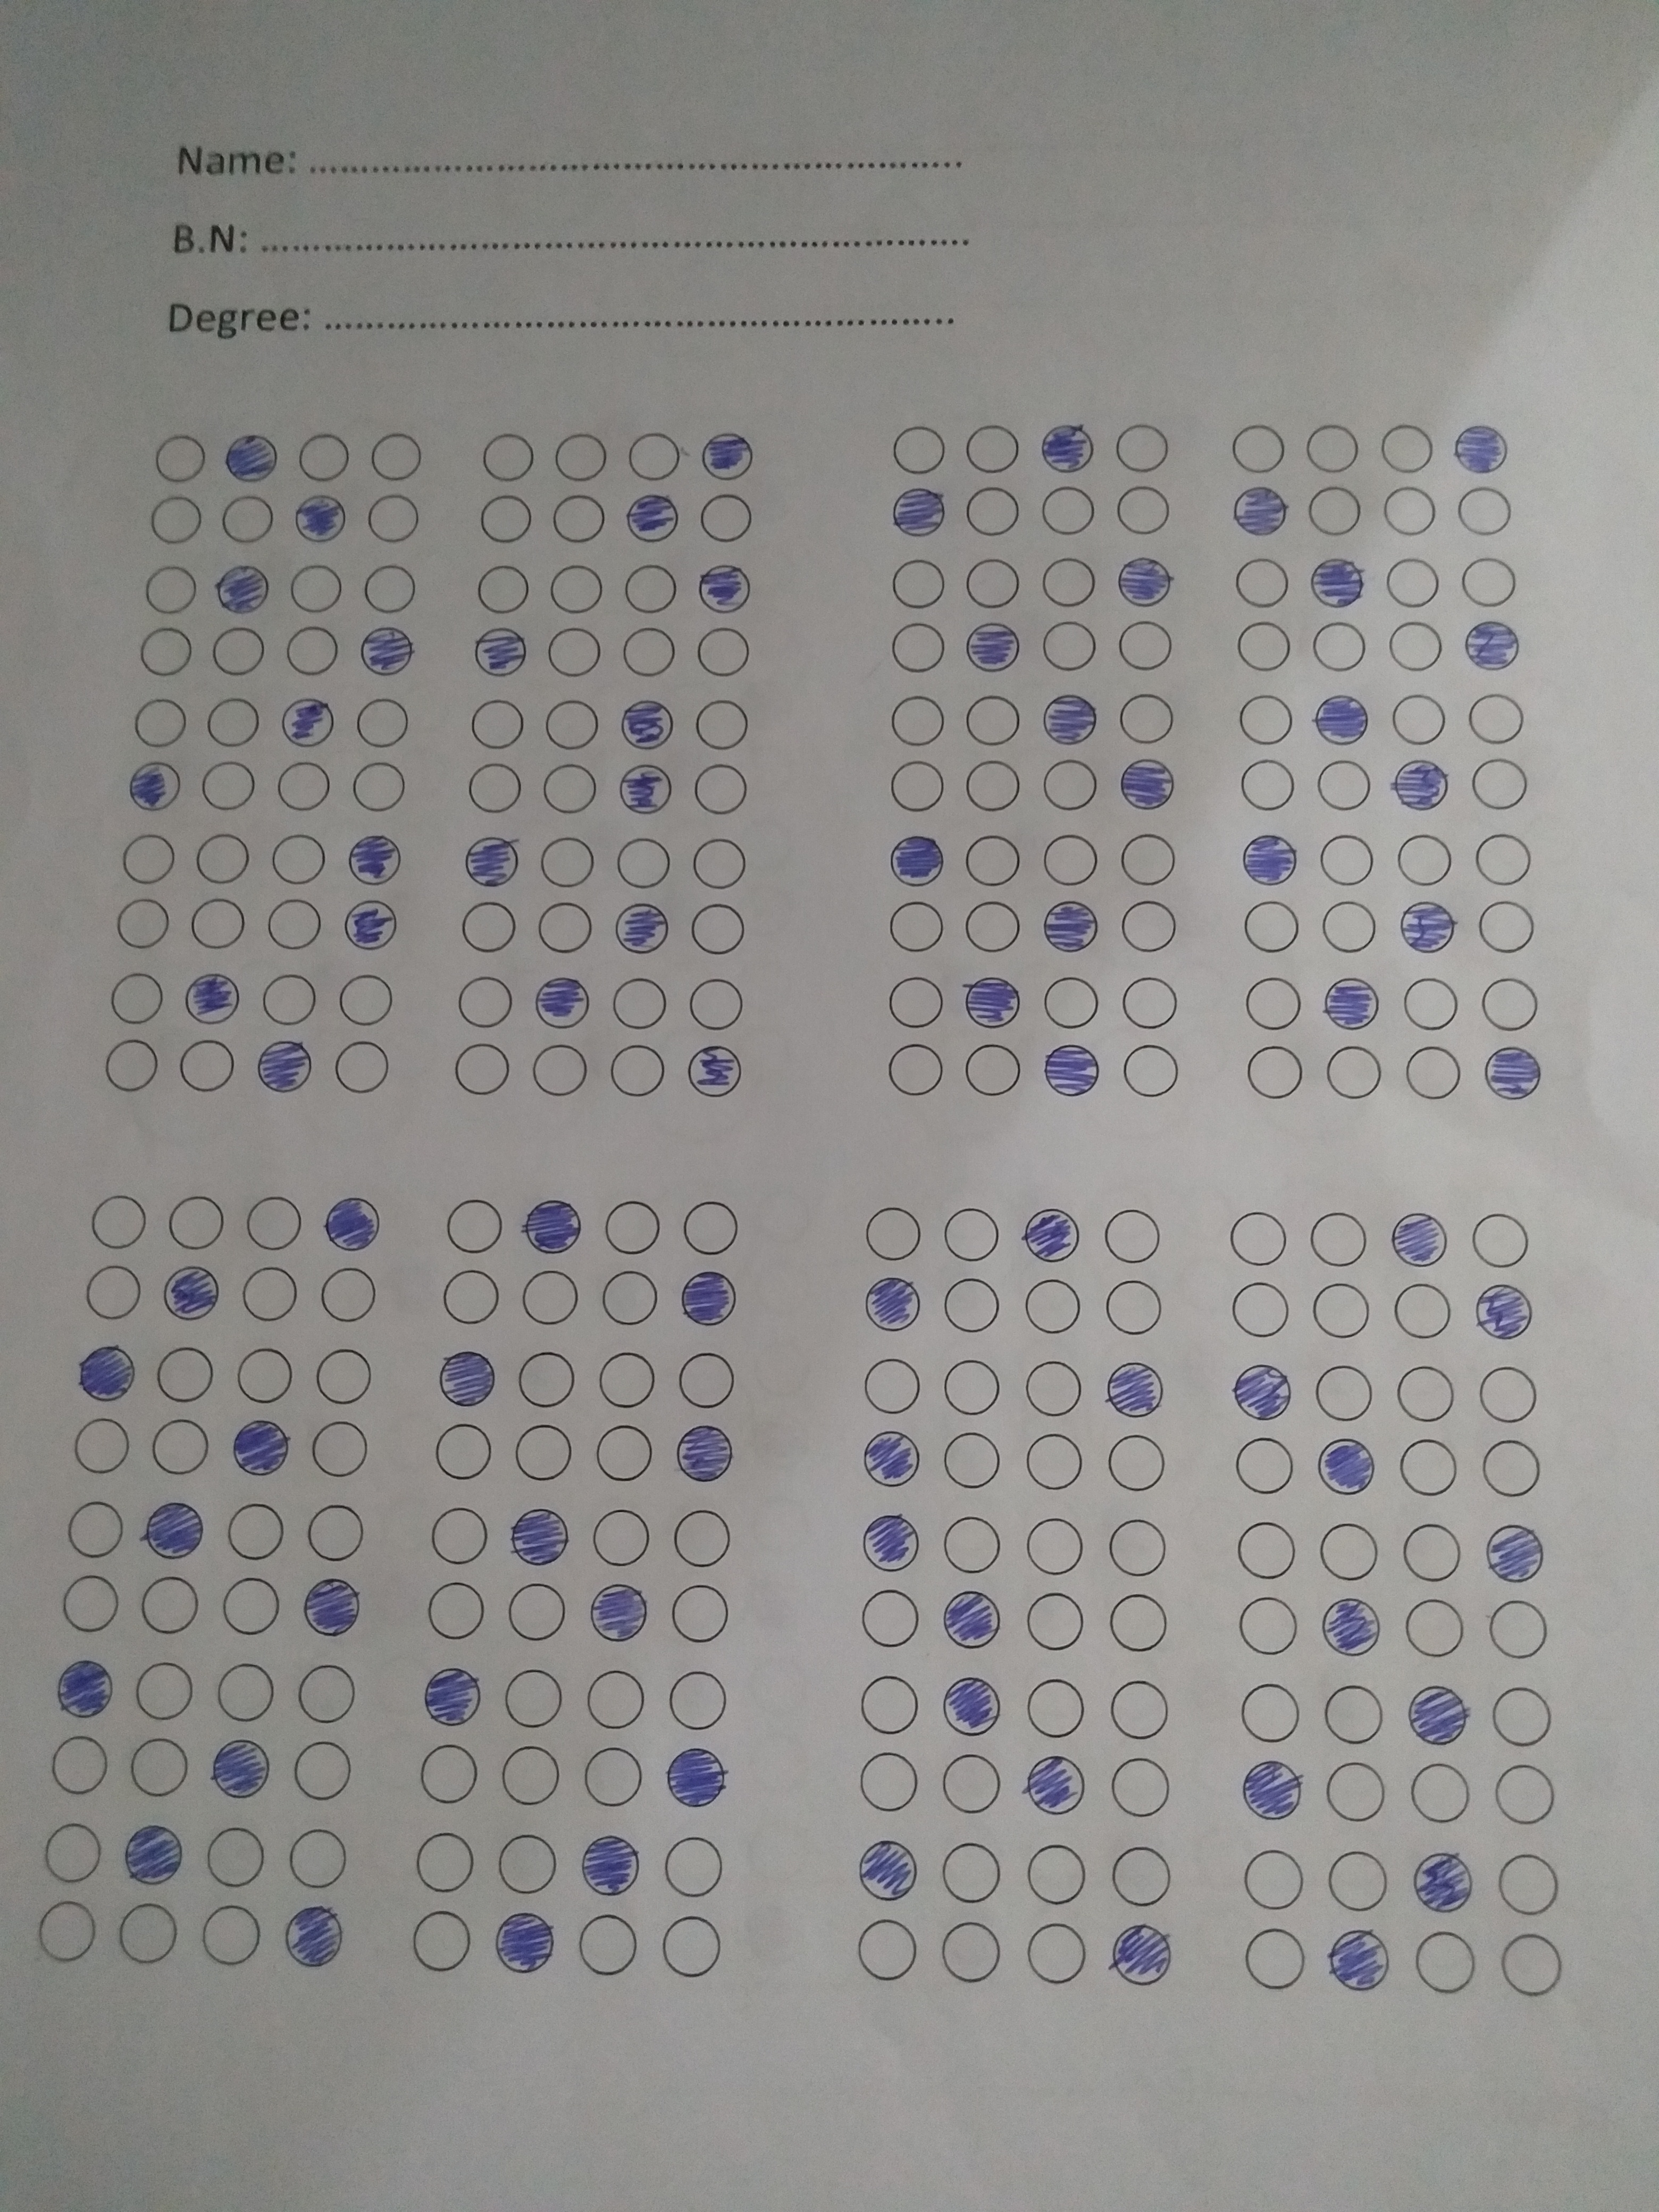not-c: (1016, 1838, 1100, 1909), (852, 1672, 931, 1742), (1023, 1921, 1101, 1991), (591, 1343, 662, 1418), (653, 1912, 727, 1984), (511, 1343, 580, 1418), (1229, 1433, 1305, 1501), (573, 1911, 645, 1982), (854, 1914, 925, 1986), (200, 1824, 274, 1893), (934, 1918, 1007, 1987), (572, 1665, 648, 1731), (1016, 1514, 1087, 1583), (1310, 1517, 1380, 1588), (218, 1500, 293, 1566), (854, 1747, 929, 1813), (1103, 1756, 1178, 1822), (1241, 1926, 1316, 1993), (936, 1430, 1012, 1494), (1096, 1512, 1166, 1581), (1412, 1930, 1481, 2000), (1398, 1519, 1466, 1590), (1485, 1684, 1556, 1752), (1319, 1761, 1396, 1824), (423, 1420, 493, 1487), (216, 1573, 286, 1641), (505, 1581, 575, 1649), (1474, 1360, 1542, 1430), (1476, 1437, 1546, 1505), (1493, 1851, 1563, 1919), (420, 1580, 491, 1646), (35, 1897, 101, 1968), (408, 1907, 474, 1979), (1236, 1592, 1307, 1658), (1108, 1841, 1175, 1912), (1321, 1850, 1392, 1916), (42, 1818, 106, 1892), (286, 1824, 354, 1892), (199, 1902, 267, 1970), (1480, 1595, 1547, 1663), (495, 1832, 561, 1902), (115, 1900, 181, 1970), (676, 1197, 748, 1261), (132, 1656, 197, 1728), (150, 1343, 223, 1406), (288, 1742, 361, 1804), (934, 1514, 1007, 1576), (1018, 1592, 1091, 1655), (450, 897, 526, 956), (1389, 1437, 1467, 1494), (533, 895, 601, 961), (664, 1669, 732, 1735), (660, 1836, 728, 1902), (1021, 1676, 1089, 1742), (1107, 1677, 1175, 1743), (84, 1190, 153, 1254), (214, 1656, 279, 1726), (415, 1740, 484, 1804), (1237, 1681, 1307, 1745), (1500, 1930, 1565, 2000), (502, 1743, 565, 1815), (936, 1357, 1007, 1420), (1021, 1430, 1093, 1493), (1398, 1599, 1469, 1662), (162, 1188, 228, 1254), (598, 1195, 664, 1261), (1493, 1763, 1560, 1829), (1241, 1848, 1307, 1914), (606, 1040, 671, 1108), (666, 1583, 734, 1648), (293, 1663, 361, 1728), (1019, 1355, 1087, 1420), (857, 1588, 922, 1656), (1408, 1761, 1473, 1829), (605, 972, 674, 1035), (328, 1038, 397, 1101), (587, 1510, 657, 1573), (1391, 1362, 1460, 1425), (592, 1268, 664, 1329), (584, 1740, 645, 1811), (1100, 1277, 1171, 1338), (685, 834, 751, 899), (146, 1414, 211, 1480), (131, 1737, 195, 1803), (1103, 1204, 1169, 1268), (861, 1353, 925, 1420), (1105, 1432, 1171, 1496), (1234, 1517, 1300, 1581), (103, 968, 171, 1031), (1319, 897, 1387, 960), (939, 1841, 1002, 1909), (1108, 902, 1182, 960), (439, 1195, 504, 1259), (512, 1421, 577, 1486), (303, 1501, 368, 1566), (429, 1505, 493, 1569), (671, 1508, 735, 1573), (498, 1665, 563, 1730), (1467, 1207, 1532, 1271), (263, 899, 329, 961), (260, 968, 326, 1031), (82, 1261, 148, 1324), (66, 1494, 129, 1561), (49, 1733, 112, 1799), (415, 1832, 477, 1898), (1389, 1282, 1455, 1345), (1310, 1362, 1377, 1425), (1103, 1594, 1169, 1656), (688, 759, 756, 820), (1305, 1209, 1373, 1270), (1108, 1045, 1185, 1099), (171, 1038, 240, 1097), (462, 695, 533, 752), (235, 1263, 300, 1325), (518, 1266, 582, 1329), (308, 1416, 371, 1480), (139, 1575, 202, 1639), (1039, 758, 1103, 820), (1229, 1207, 1293, 1270), (1323, 1684, 1385, 1749), (941, 1754, 1004, 1818), (608, 833, 674, 894), (312, 1346, 378, 1407), (958, 693, 1026, 752), (1310, 831, 1378, 890), (676, 1350, 739, 1413), (70, 1418, 132, 1480), (1229, 1278, 1291, 1341), (267, 829, 331, 890), (591, 1423, 655, 1484), (962, 416, 1023, 481), (885, 972, 950, 1033), (460, 761, 526, 820), (192, 829, 258, 888), (1239, 899, 1305, 958), (528, 1043, 596, 1101), (244, 1191, 305, 1254), (317, 1266, 380, 1327), (59, 1575, 122, 1635), (1316, 756, 1377, 819), (1046, 972, 1108, 1033), (958, 1040, 1021, 1101), (1021, 1275, 1084, 1336), (333, 968, 397, 1028), (451, 1042, 516, 1101), (1114, 690, 1178, 749), (1471, 831, 1535, 890), (1119, 972, 1185, 1029), (1312, 1284, 1378, 1341), (681, 902, 749, 958), (234, 1343, 295, 1404), (1480, 975, 1540, 1036), (1244, 1043, 1305, 1104), (941, 1204, 1002, 1264), (349, 695, 411, 754), (112, 897, 174, 956), (1236, 690, 1298, 749), (1392, 831, 1455, 890), (884, 1040, 946, 1099), (863, 1205, 925, 1264), (1108, 420, 1173, 477), (1241, 975, 1305, 1033), (540, 761, 606, 817), (1464, 691, 1530, 747), (1112, 620, 1180, 674), (687, 975, 748, 1035), (967, 486, 1028, 545), (1236, 620, 1297, 679), (542, 698, 605, 756), (115, 831, 178, 888), (453, 975, 516, 1033), (437, 1268, 500, 1325), (889, 421, 951, 479), (1229, 420, 1291, 477), (958, 834, 1023, 890), (1453, 556, 1520, 610), (1039, 618, 1105, 672), (1307, 618, 1373, 672), (1448, 484, 1516, 536), (1469, 756, 1528, 815), (132, 627, 193, 685), (887, 690, 948, 747), (965, 897, 1023, 958), (884, 554, 946, 610), (1039, 550, 1101, 606), (887, 620, 950, 676), (1387, 693, 1450, 749), (1473, 899, 1537, 953), (535, 836, 596, 892), (186, 897, 247, 953), (1239, 756, 1300, 812), (1115, 833, 1176, 888), (884, 904, 945, 960), (1403, 1047, 1464, 1103), (1305, 484, 1368, 538), (272, 759, 336, 812), (204, 693, 261, 751), (1324, 1045, 1384, 1101), (146, 428, 207, 482), (99, 1040, 160, 1094), (1303, 423, 1364, 477), (479, 427, 535, 484), (545, 624, 603, 679), (694, 625, 751, 681), (965, 759, 1023, 815), (945, 1278, 1002, 1334), (284, 625, 343, 679), (131, 695, 190, 749), (199, 759, 258, 813), (1398, 981, 1457, 1035), (1039, 833, 1100, 885), (349, 761, 411, 812), (1108, 489, 1171, 540), (620, 561, 678, 615), (622, 625, 680, 679), (1378, 420, 1436, 474), (889, 759, 946, 813), (1380, 559, 1443, 608), (549, 495, 606, 547), (471, 564, 532, 613), (697, 698, 751, 752), (288, 563, 343, 615), (1042, 484, 1094, 540), (1385, 622, 1441, 674), (364, 496, 422, 547), (362, 564, 420, 615), (960, 559, 1021, 606), (1382, 484, 1436, 536), (211, 625, 267, 676), (477, 495, 535, 543), (549, 564, 606, 613), (295, 430, 349, 481), (223, 493, 274, 547), (146, 496, 204, 543), (368, 432, 420, 482), (702, 491, 751, 545), (631, 428, 676, 484), (554, 434, 605, 482), (1236, 561, 1284, 611), (146, 564, 193, 613)
taken-c: (1108, 1919, 1175, 1986), (662, 1743, 727, 1811), (854, 1838, 920, 1902), (1412, 1850, 1476, 1914), (493, 1909, 556, 1975), (1243, 1759, 1305, 1825), (286, 1902, 347, 1970), (145, 1498, 207, 1562), (1330, 1926, 1392, 1991), (1319, 1594, 1382, 1658), (941, 1672, 1002, 1738), (1025, 1752, 1086, 1818), (1485, 1519, 1546, 1585), (124, 1820, 183, 1888), (1406, 1684, 1469, 1747), (303, 1573, 364, 1637), (509, 1505, 570, 1569), (674, 1421, 735, 1486), (582, 1831, 641, 1897), (1316, 1435, 1377, 1498), (1474, 1280, 1535, 1343), (234, 1414, 293, 1479), (591, 1580, 650, 1644), (941, 1587, 1000, 1651), (437, 1348, 498, 1409), (863, 1273, 924, 1334), (1105, 1359, 1166, 1420), (422, 1665, 481, 1728), (863, 1428, 922, 1491), (1232, 1362, 1295, 1421), (1042, 1040, 1101, 1101), (77, 1343, 136, 1404), (56, 1658, 115, 1719), (1023, 1204, 1082, 1264), (1481, 1043, 1542, 1103), (211, 1738, 268, 1801), (254, 1036, 314, 1096), (523, 1198, 582, 1258), (861, 1512, 920, 1571), (1392, 754, 1452, 813), (962, 974, 1023, 1031), (680, 1268, 737, 1329), (1391, 1209, 1448, 1270), (1310, 691, 1371, 749), (532, 974, 591, 1031), (162, 1263, 220, 1322), (1323, 974, 1380, 1033), (1398, 899, 1457, 956), (1239, 831, 1298, 888), (223, 428, 281, 486), (1119, 754, 1176, 812), (887, 831, 945, 888), (1042, 899, 1100, 956), (183, 970, 242, 1026), (1117, 554, 1176, 610), (326, 1193, 382, 1252), (1040, 691, 1098, 747), (1309, 556, 1366, 611), (697, 428, 756, 482), (361, 624, 416, 679), (687, 1043, 742, 1099), (615, 900, 671, 956), (464, 833, 519, 888), (474, 622, 528, 679), (965, 620, 1023, 674), (1232, 484, 1290, 538), (1464, 620, 1523, 672), (1452, 423, 1511, 475), (214, 563, 270, 617), (129, 758, 183, 813), (349, 833, 403, 888), (343, 899, 399, 953), (619, 763, 674, 817), (619, 698, 674, 752), (697, 561, 753, 615), (892, 484, 946, 538), (1040, 421, 1094, 475), (281, 697, 336, 749), (293, 493, 347, 545), (626, 493, 681, 543)
